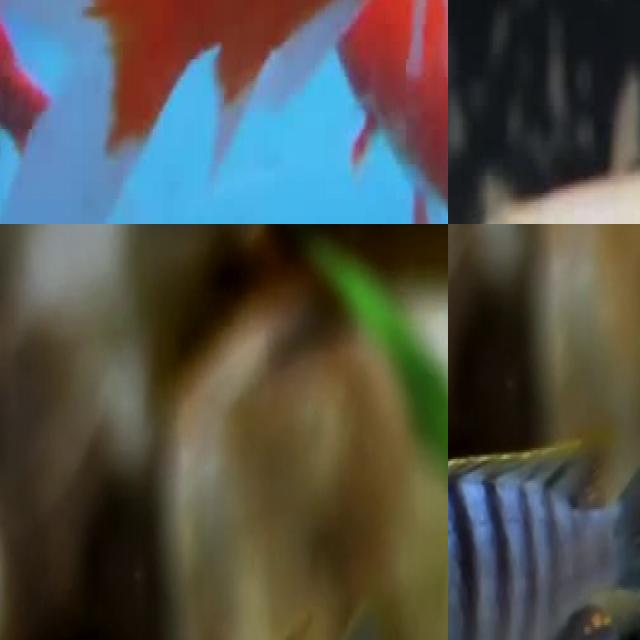fish: (0, 0, 448, 224), (125, 224, 448, 423), (448, 75, 640, 224)
